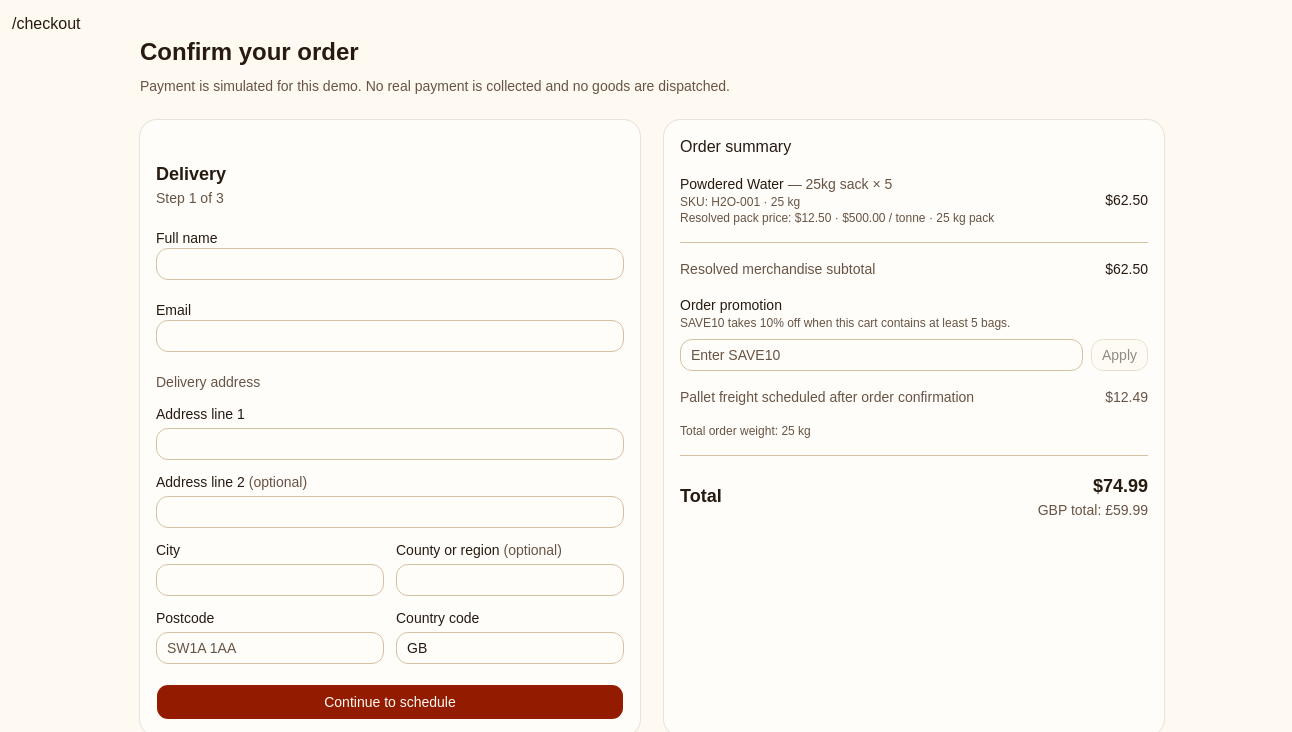
Checkout summary and promotions › displays the freight-inclusive total returned by a valid promo quote
This screenshot has width=1292, height=732.
In the field labelled "Order promotion": {"x": 882, "y": 355} [680,339,1083,371], type "SAVE10"
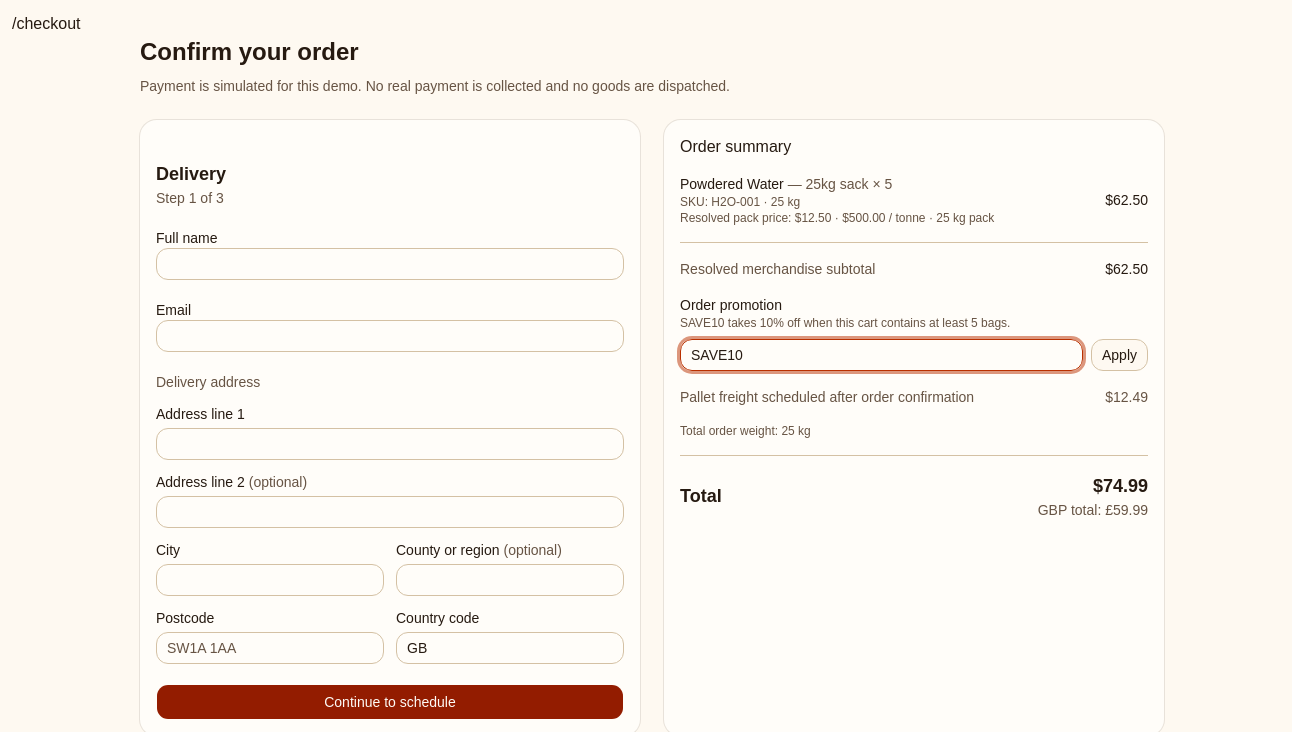
Click the button "Apply": {"x": 1120, "y": 355} [1091,339,1148,371]
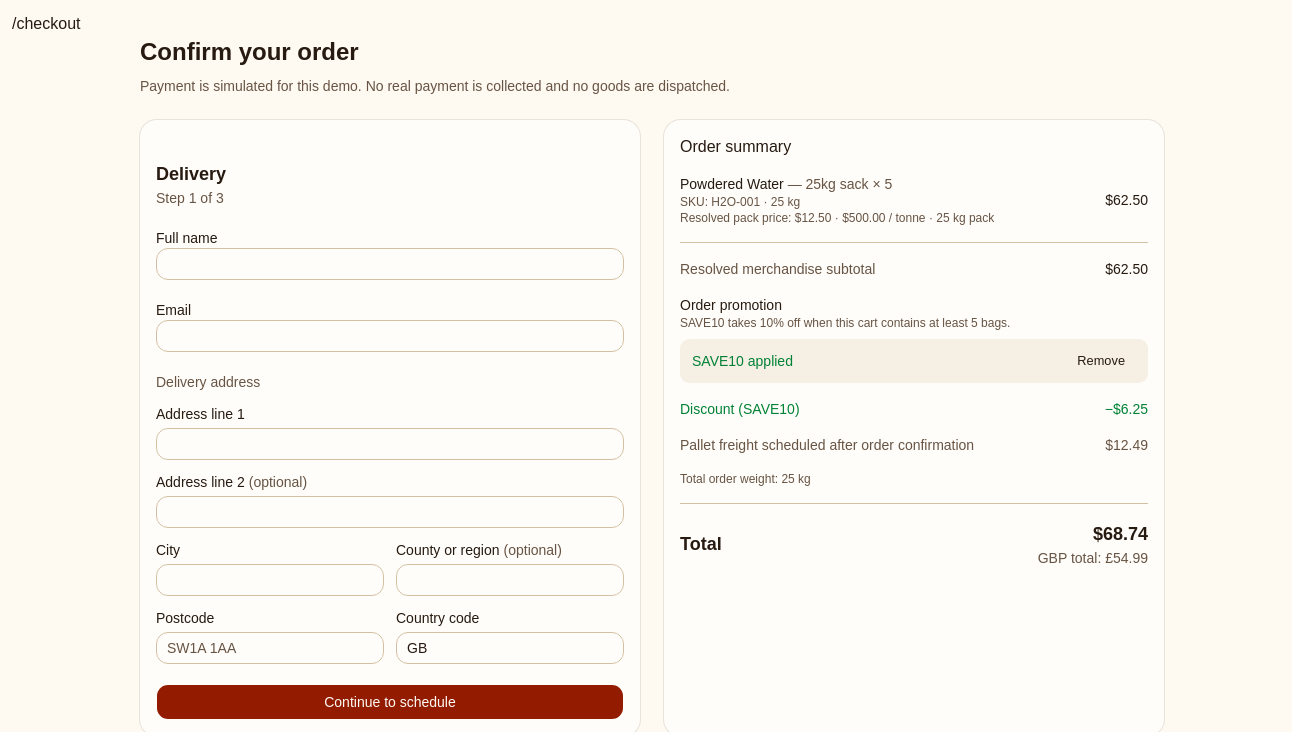
Expected: the text "$12.49" is shown, [1105,435,1148,455]
Expected: the text "$68.74" is shown, [1093,524,1148,544]
